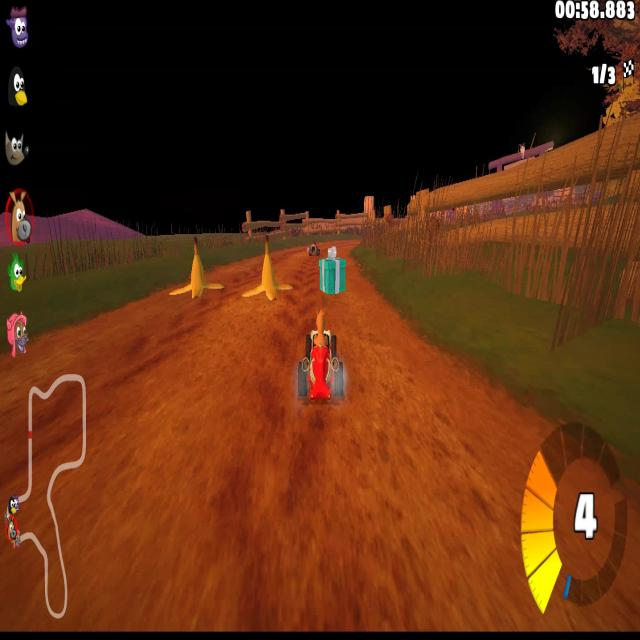bonus: (316, 257, 350, 292)
enemy_kart: (306, 240, 322, 256)
obstacle: (244, 238, 291, 304), (175, 239, 221, 302)
player_kart: (292, 310, 350, 403)
track: (0, 426, 638, 633), (2, 351, 294, 425), (353, 320, 430, 428), (100, 313, 295, 348), (428, 366, 524, 422), (222, 253, 245, 308), (293, 250, 314, 304), (54, 332, 104, 348), (354, 297, 394, 315), (336, 240, 361, 248)
